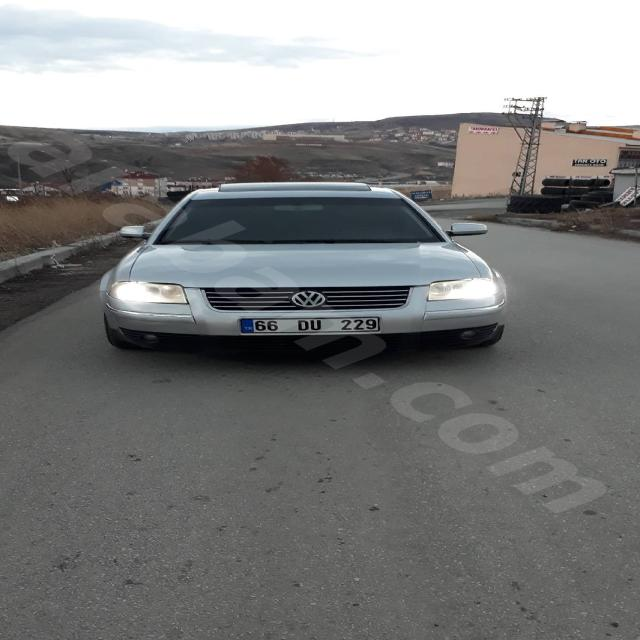license_plate: (239, 318, 380, 332)
